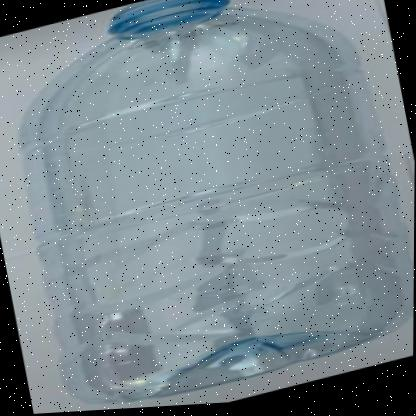open bottle: (1, 1, 395, 158)
